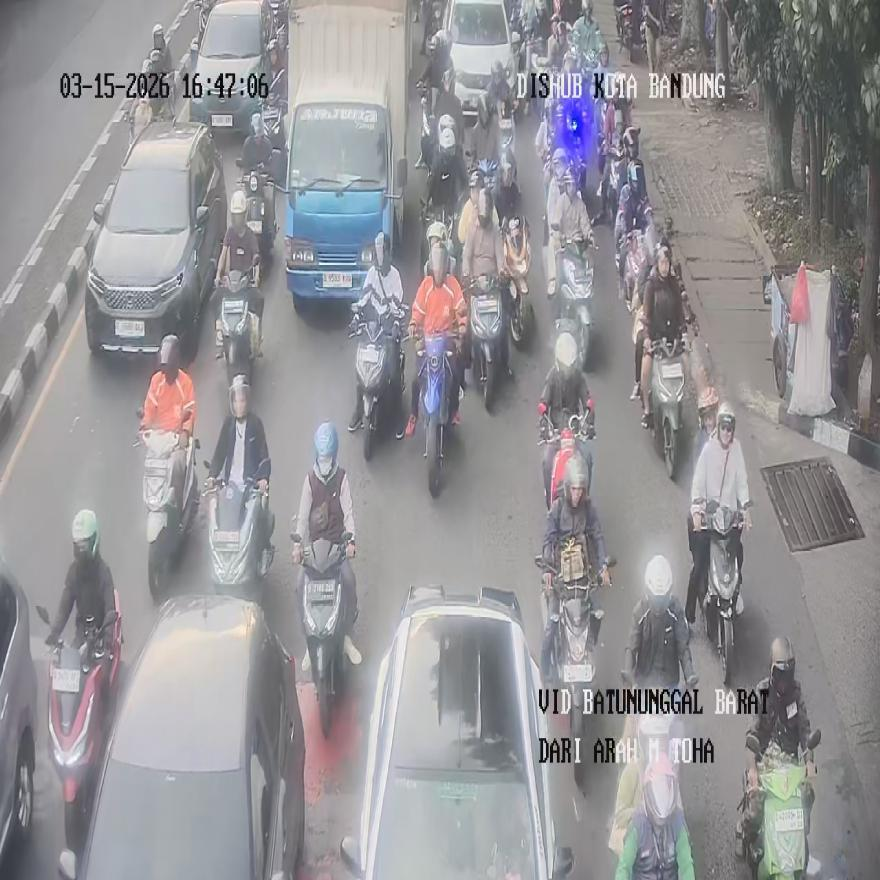Mobil: (339, 584, 575, 878), (84, 121, 226, 359), (189, 0, 283, 137)
Truk ringan: (280, 1, 408, 306)
